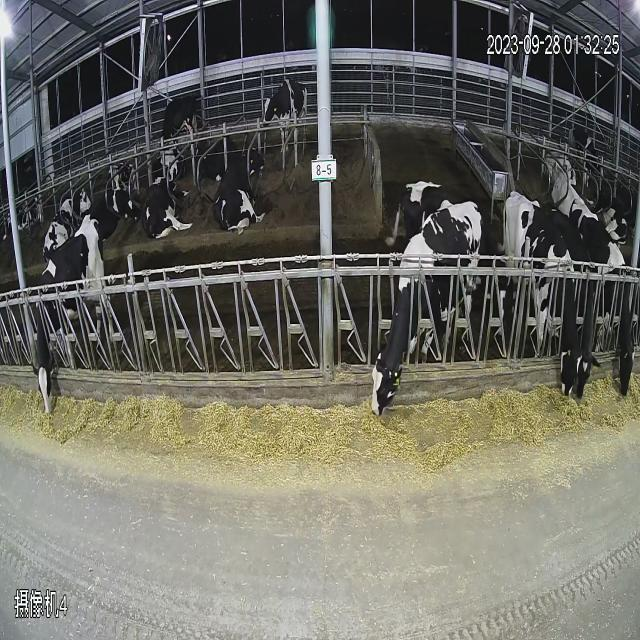feeding: (358, 202, 488, 436), (498, 194, 634, 406), (19, 224, 120, 457)
lying down: (200, 125, 274, 240), (148, 139, 192, 273), (43, 140, 90, 255), (105, 132, 146, 236), (0, 164, 40, 261), (592, 180, 638, 252), (536, 140, 584, 194)
standing: (256, 58, 320, 168), (385, 154, 468, 238), (146, 84, 212, 156), (567, 106, 603, 166)
